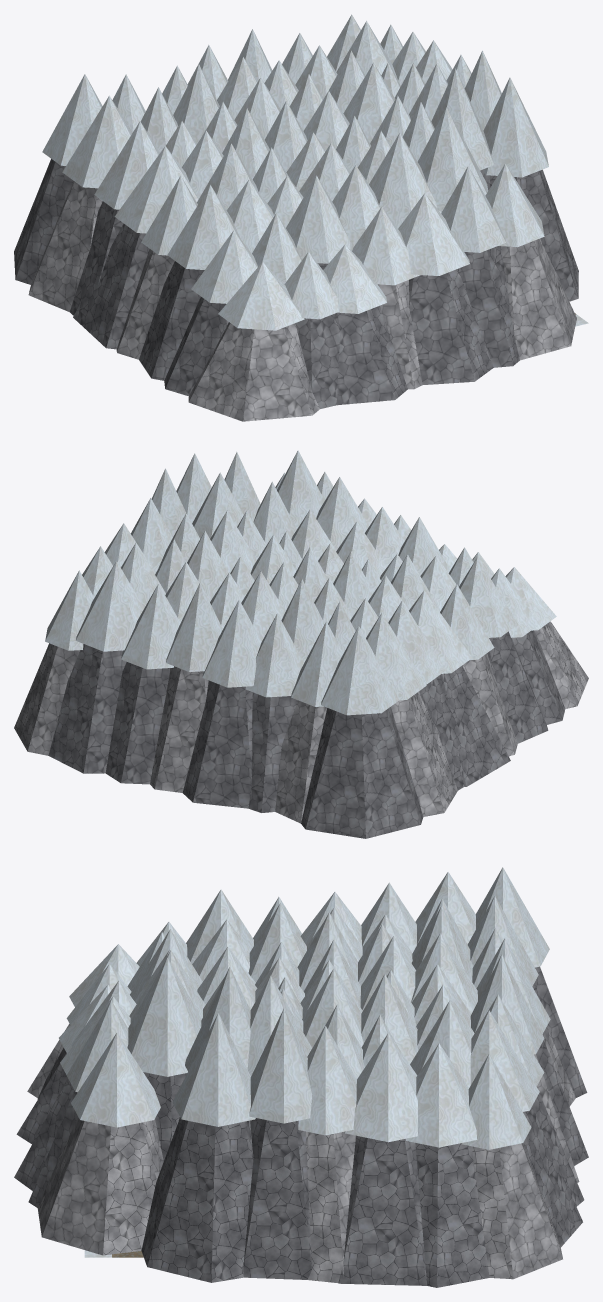
File: chunk_7_0.glb
3 renders of one model, top to bottom at view 1: azimuth 30°, elevation 25°; view 2: azimuth 150°, elevation 25°; view 3: azimuth 270°, elevation 25°, orthographic. The views are drawn at different scales.
Parts seen in each view (by area): view 1: chunk_7_0; view 2: chunk_7_0; view 3: chunk_7_0.
Part boxes in pixels (<box>): chunk_7_0: <box>14,14,588,421</box>; chunk_7_0: <box>14,450,588,838</box>; chunk_7_0: <box>14,867,588,1287</box>.
Size of the model in its own units: 21.15 by 10.18 by 20.93.
6 materials, 6 textured.
